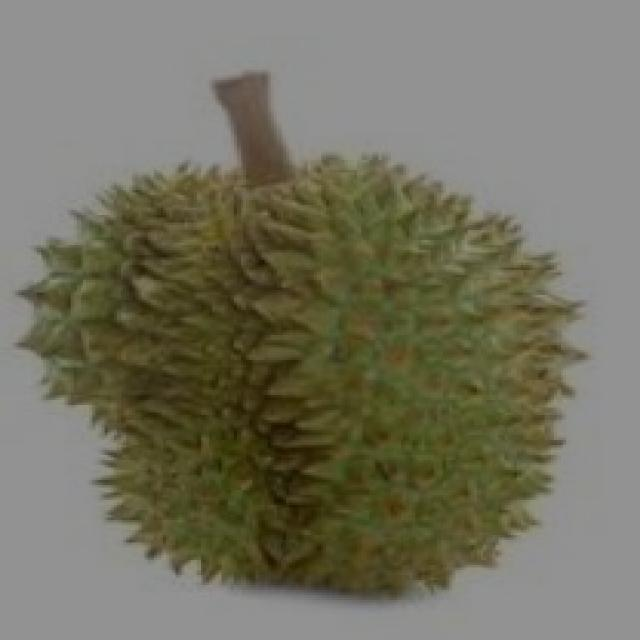fruit: (256, 268, 618, 638), (40, 280, 403, 638)
